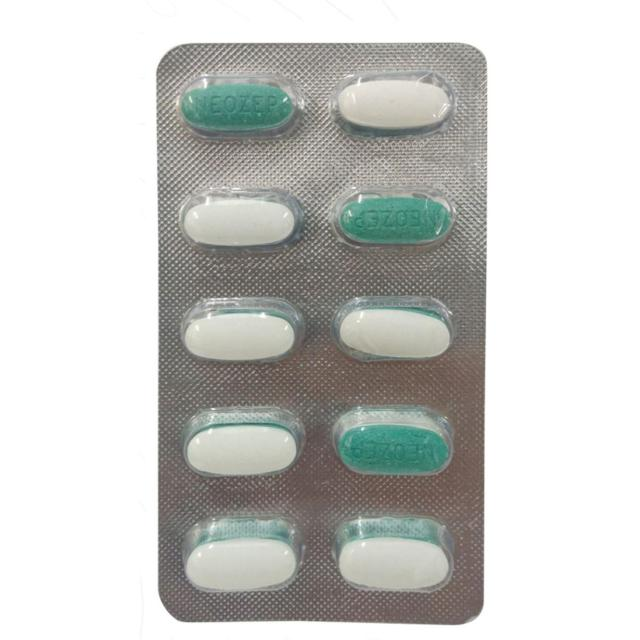blister: (147, 34, 498, 631)
